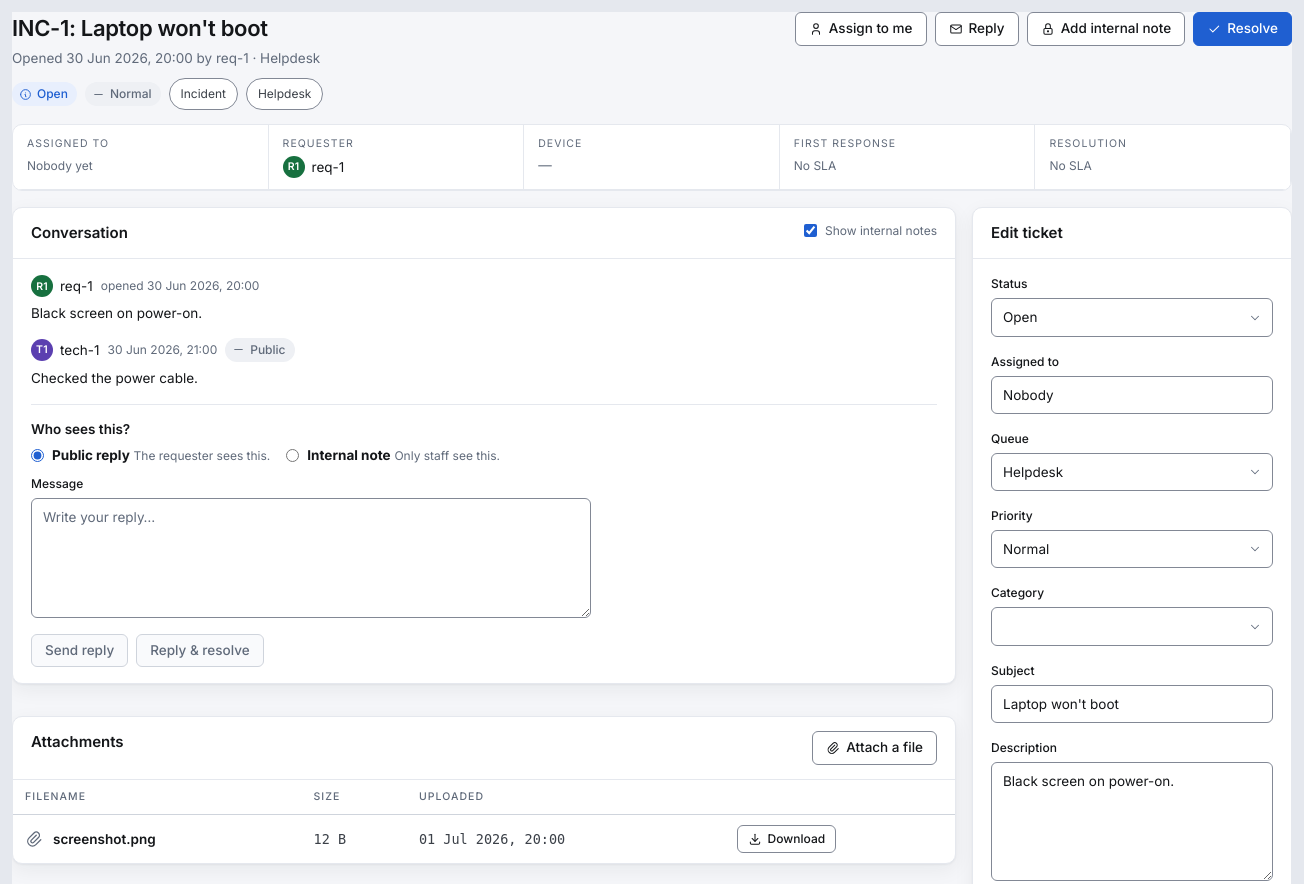
Test: service desk reports every failure as an announced sentence › explains a failed comment post
Type "on it" into the text box labelled "Message" at (311, 558), box left=31, top=498, right=591, bottom=618
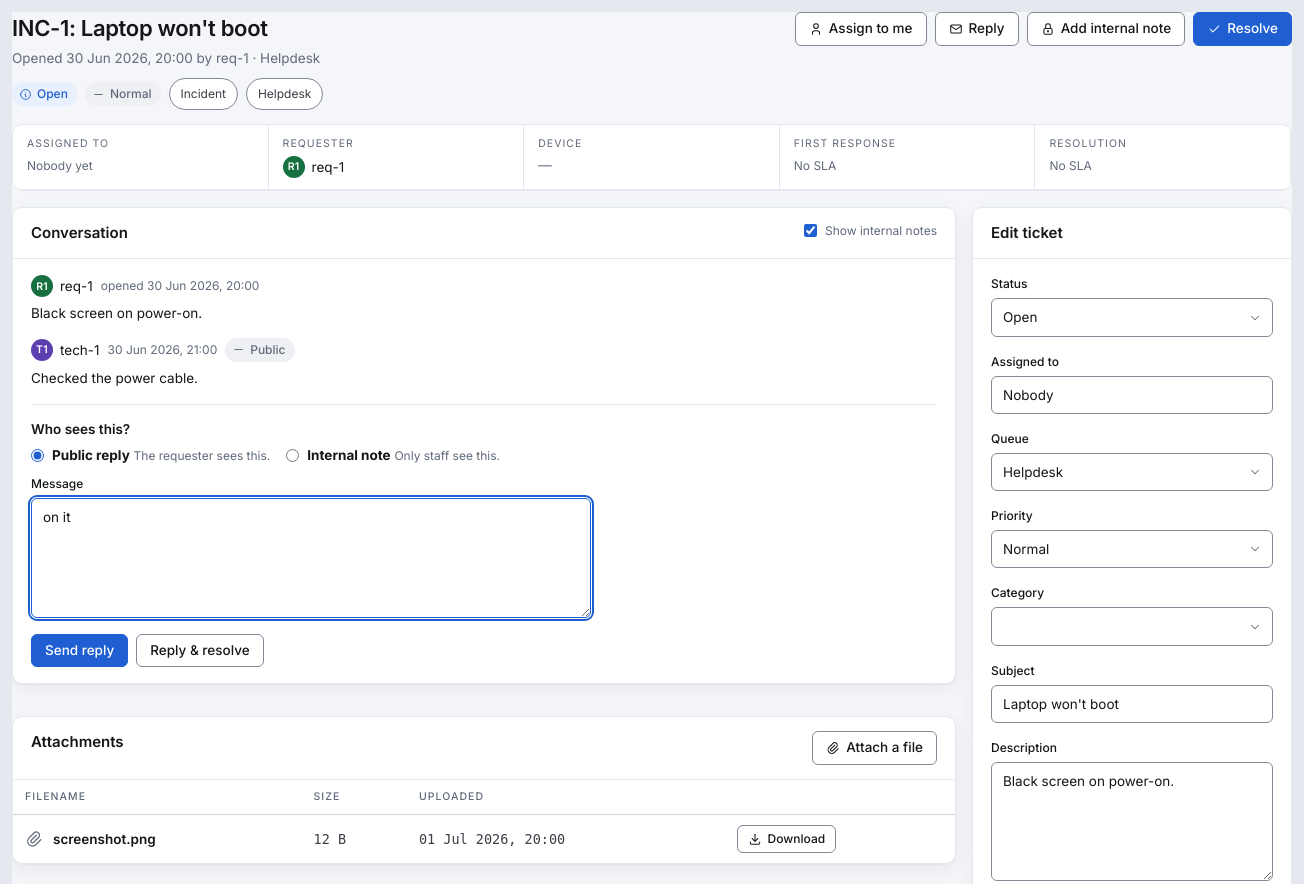
Click the button "Send reply" at (80, 650), box left=31, top=634, right=128, bottom=667
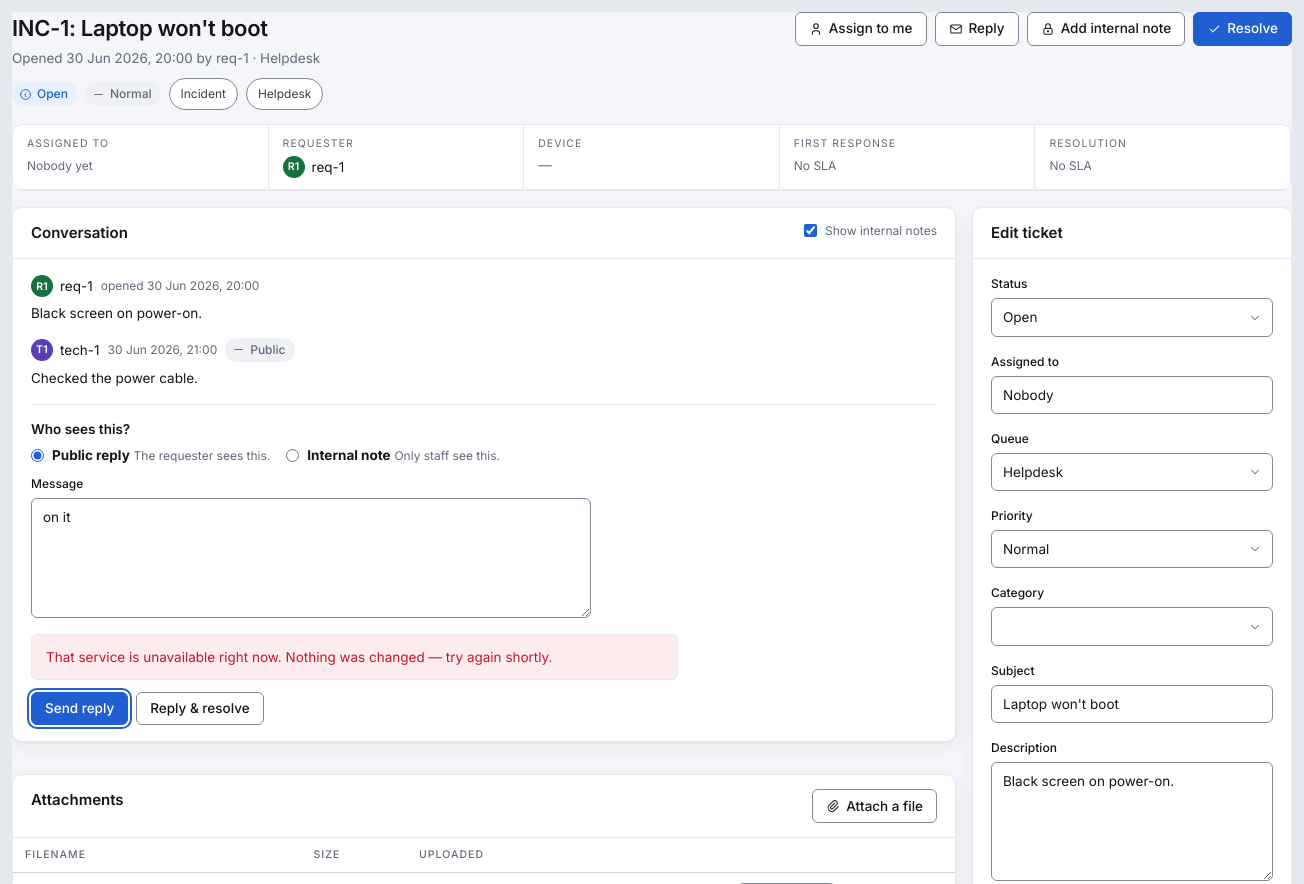
Now the message shows "unavailable right now", box left=46, top=649, right=552, bottom=665
